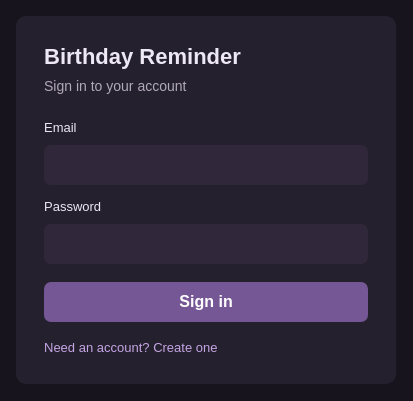
Test case: AuthScreen › returns to the sign-in form from account creation
Click the button "Need an account? Create one" at (131, 348), box [44,340,218,355]
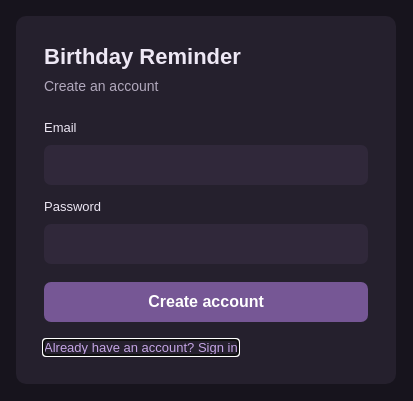
Click the button "Already have an account? Sign in" at (141, 348), box [44,340,238,355]
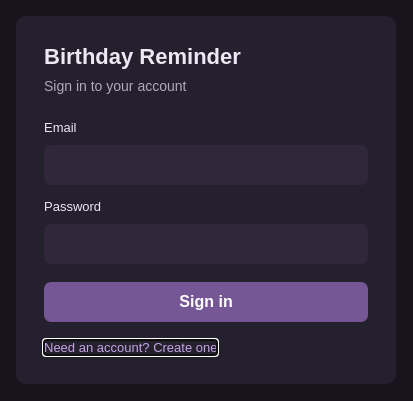
Now the text "Sign in to your account" is shown, box [44,78,186,94]
